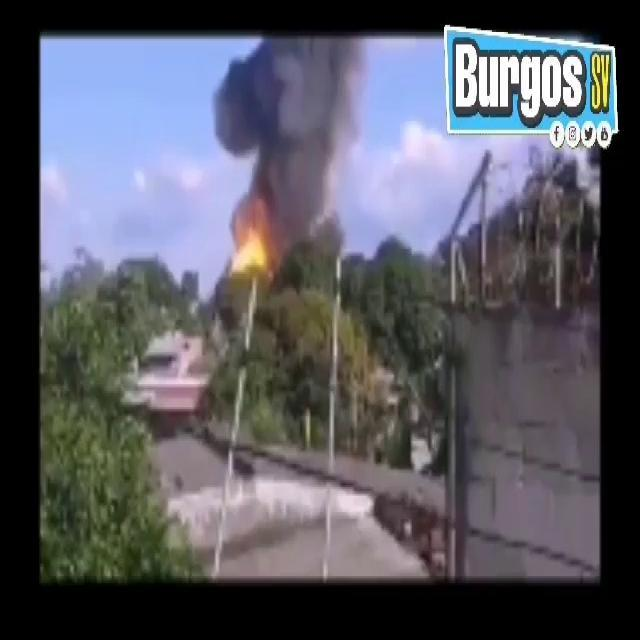Fire: (224, 202, 276, 290)
Smoke: (214, 42, 362, 200), (287, 207, 347, 246)
